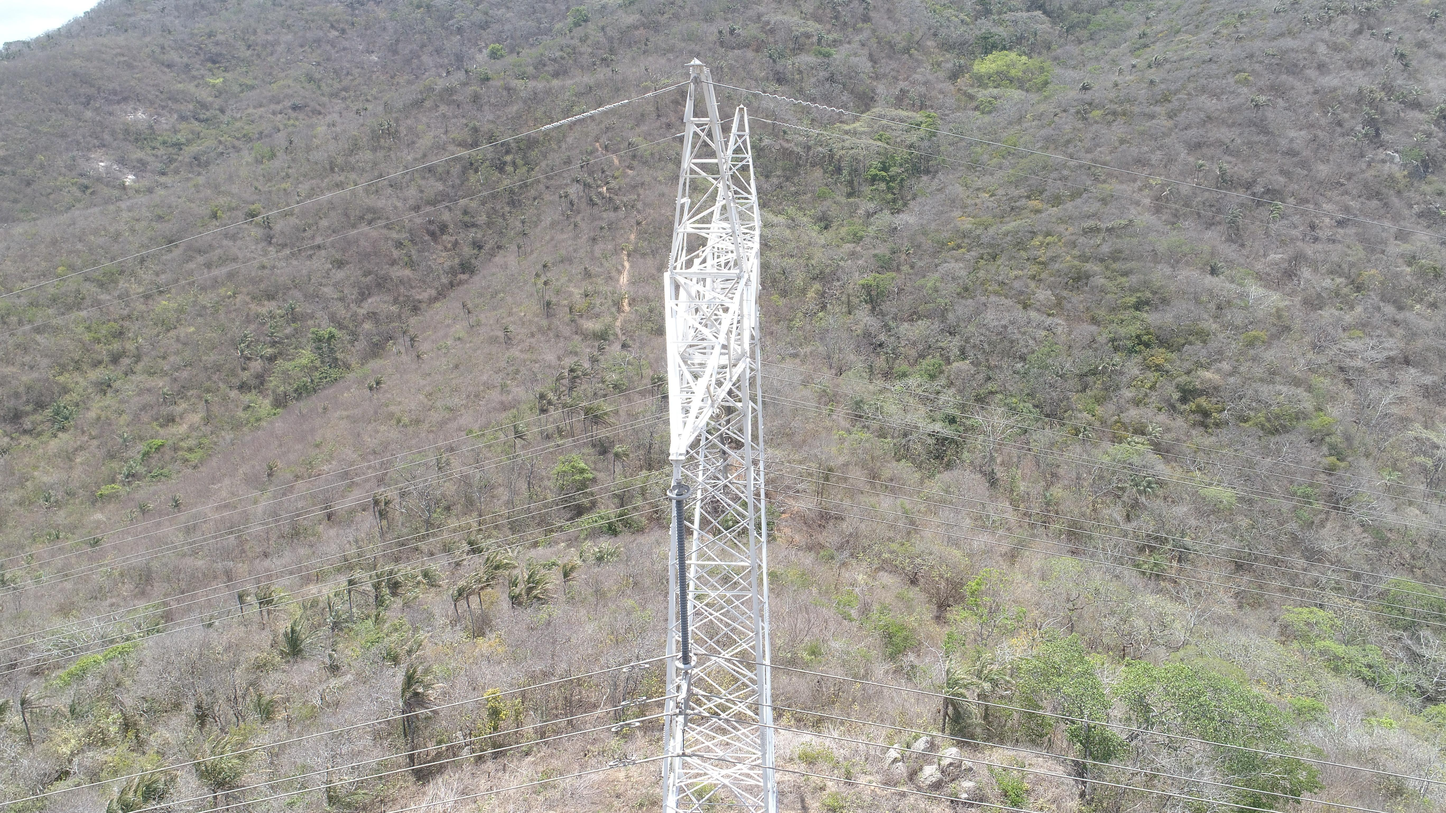power_tower: (656, 58, 780, 812)
